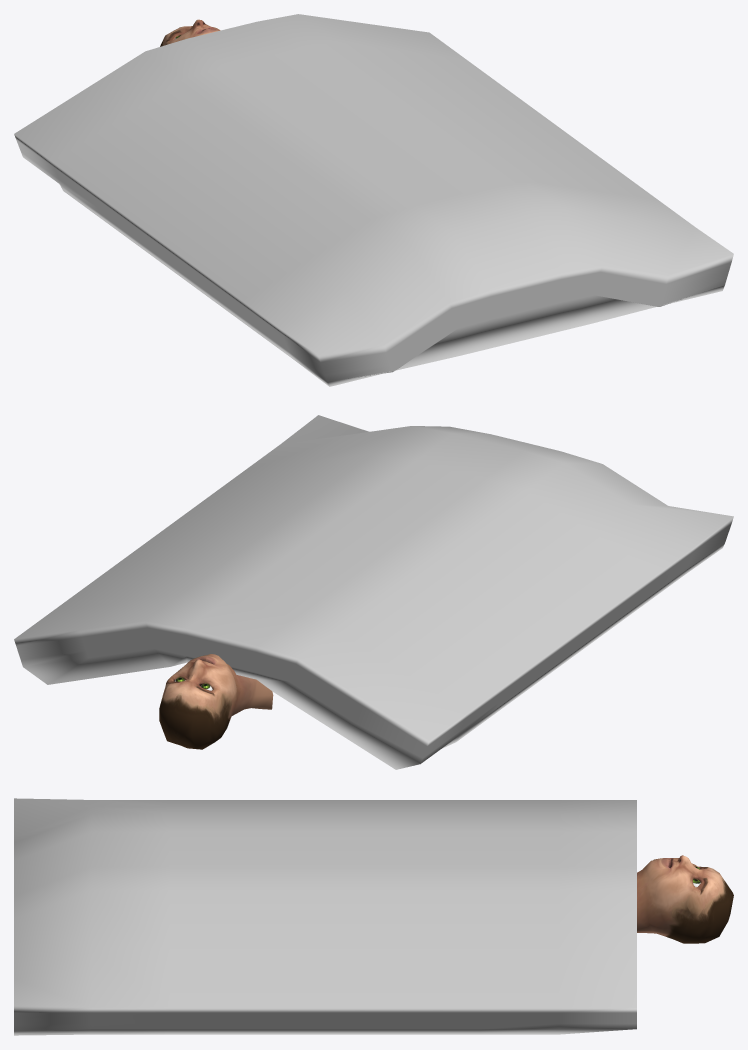
Rendered from ossan2.fbx.
The picture shows the model from 3 angles, top to bottom: view 1: azimuth 30°, elevation 25°; view 2: azimuth 150°, elevation 25°; view 3: azimuth 270°, elevation 25°; orthographic projection. The views are drawn at different scales.
Parts seen in each view (by area): view 1: pCube1, polySurface5; view 2: pCube1, polySurface5; view 3: pCube1, polySurface5.
Boxes of the visible parts, bbox=[...] form: pCube1: bbox=[14, 14, 733, 386]; polySurface5: bbox=[160, 19, 220, 46]; pCube1: bbox=[14, 415, 733, 769]; polySurface5: bbox=[159, 654, 273, 749]; pCube1: bbox=[14, 798, 636, 1035]; polySurface5: bbox=[637, 855, 733, 943].
Size of the model in its own units: 11.27 by 2.34 by 16.52.
